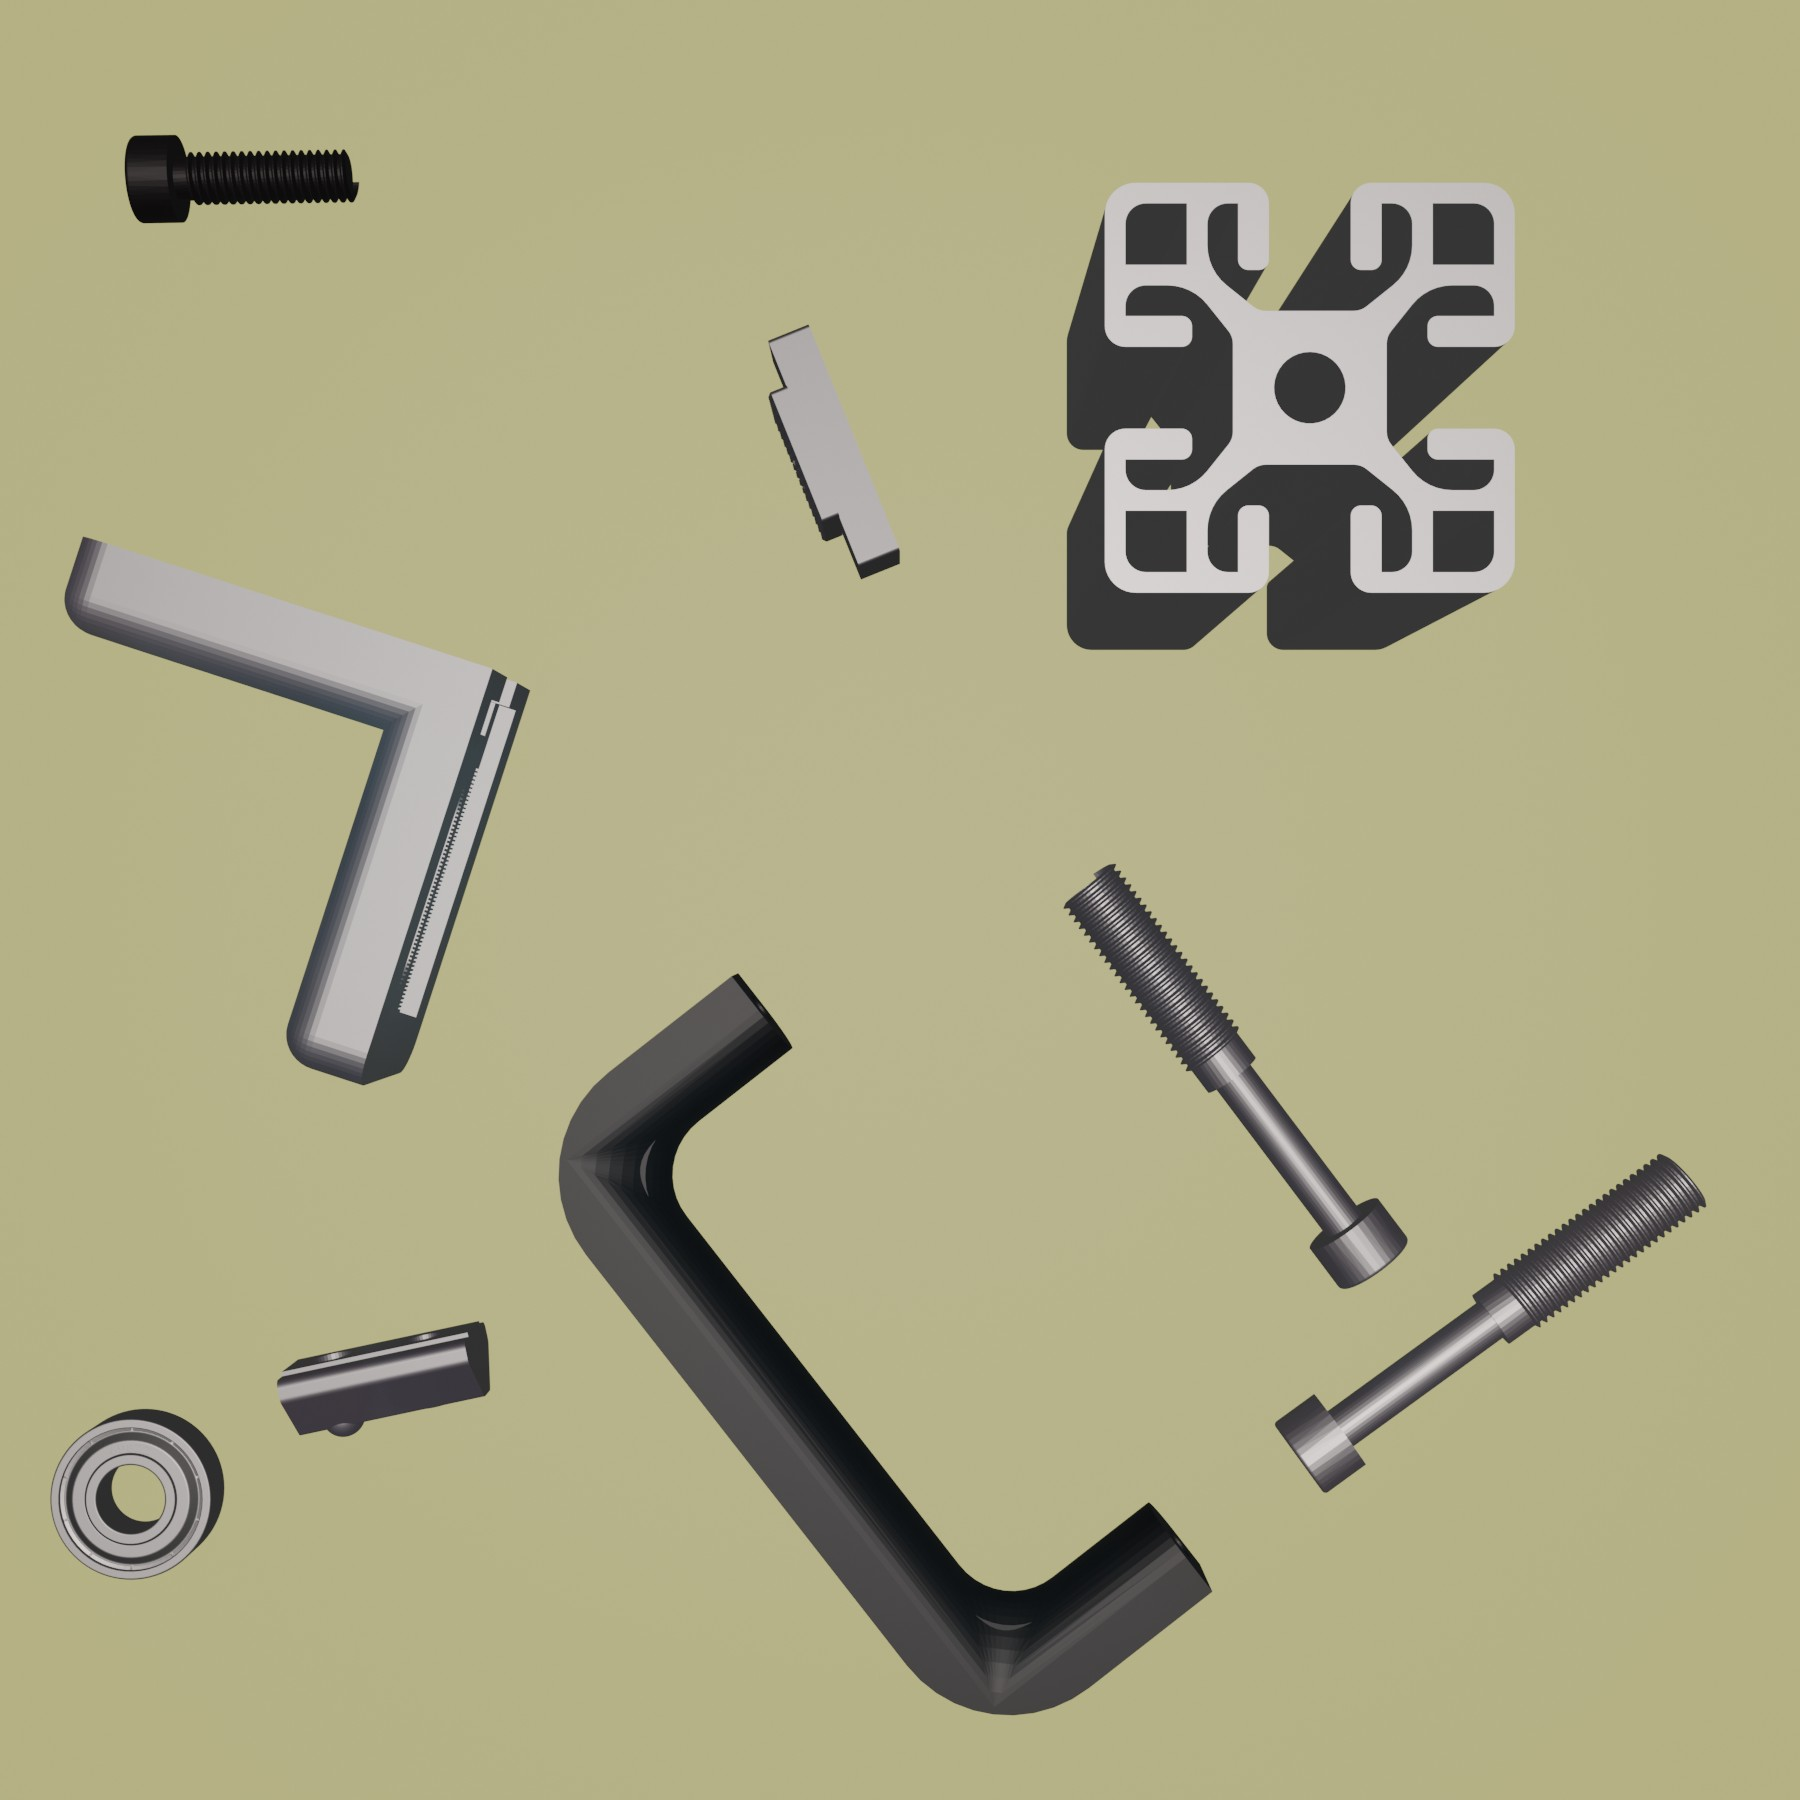Aluminium Extension: (1058, 176, 1520, 654)
Ball Bearing: (48, 1403, 227, 1582)
Multiwinkel: (61, 531, 532, 1090)
Pull Handle: (555, 973, 1215, 1718)
Shoulder Socket Head Cap Screw: (1273, 1149, 1709, 1497), (1058, 859, 1409, 1291)
Socket Head Cap Screw: (120, 130, 364, 226)
T Nut Square: (762, 318, 908, 585)
T Spring Nut: (275, 1314, 495, 1439)
